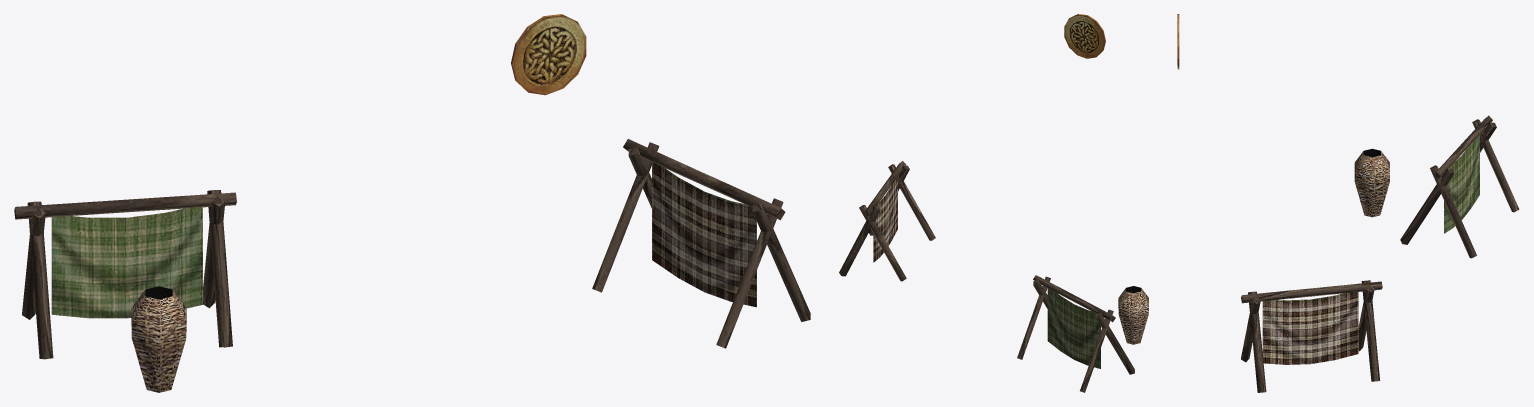
Rendered from celt_market1_props_new.dae.
3 views of the same model, side by side, from view 1: azimuth 30°, elevation 25°; view 2: azimuth 150°, elevation 25°; view 3: azimuth 270°, elevation 25° (orthographic). The views are drawn at different scales.
Visible parts, largest first — view 1: Medallion01-Pivot; view 2: Medallion01-Pivot; view 3: Medallion01-Pivot.
Boxes of the visible parts, x1,y1,x2,y2 form: Medallion01-Pivot: (14,14,810,392); Medallion01-Pivot: (839,14,1148,392); Medallion01-Pivot: (1177,14,1519,392).
Size of the model in its own units: 14.39 by 10.57 by 9.45.
